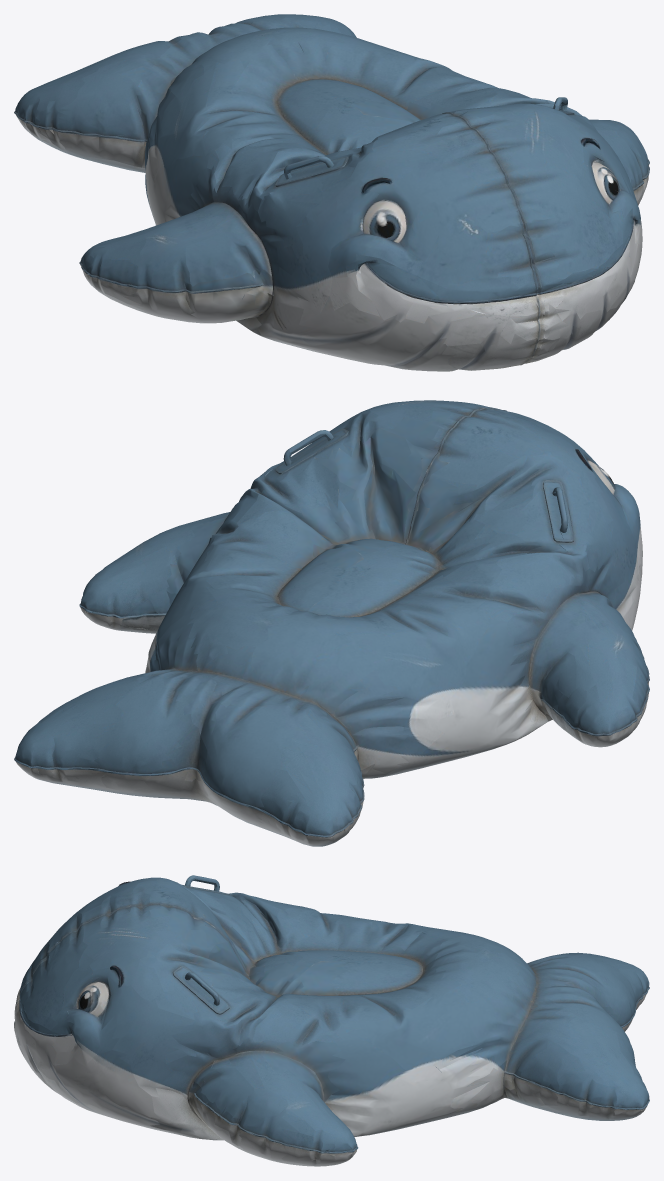
File: balena_gonfiabile_sgonfia.glb
The picture shows the model from 3 angles, top to bottom: view 1: azimuth 30°, elevation 25°; view 2: azimuth 150°, elevation 25°; view 3: azimuth 270°, elevation 25°; orthographic projection. The views are drawn at different scales.
Parts seen in each view (by area): view 1: Mesh_0; view 2: Mesh_0; view 3: Mesh_0.
Part boxes in pixels (<box>): Mesh_0: <box>14,14,649,371</box>; Mesh_0: <box>14,400,649,846</box>; Mesh_0: <box>14,875,649,1166</box>.
Size of the model in its own units: 1.59 by 0.5465 by 1.9.
1 material, 1 textured.
